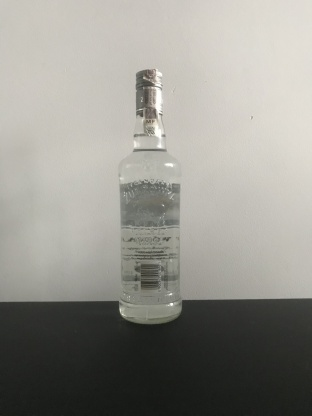nakretka: (134, 66, 164, 118)
